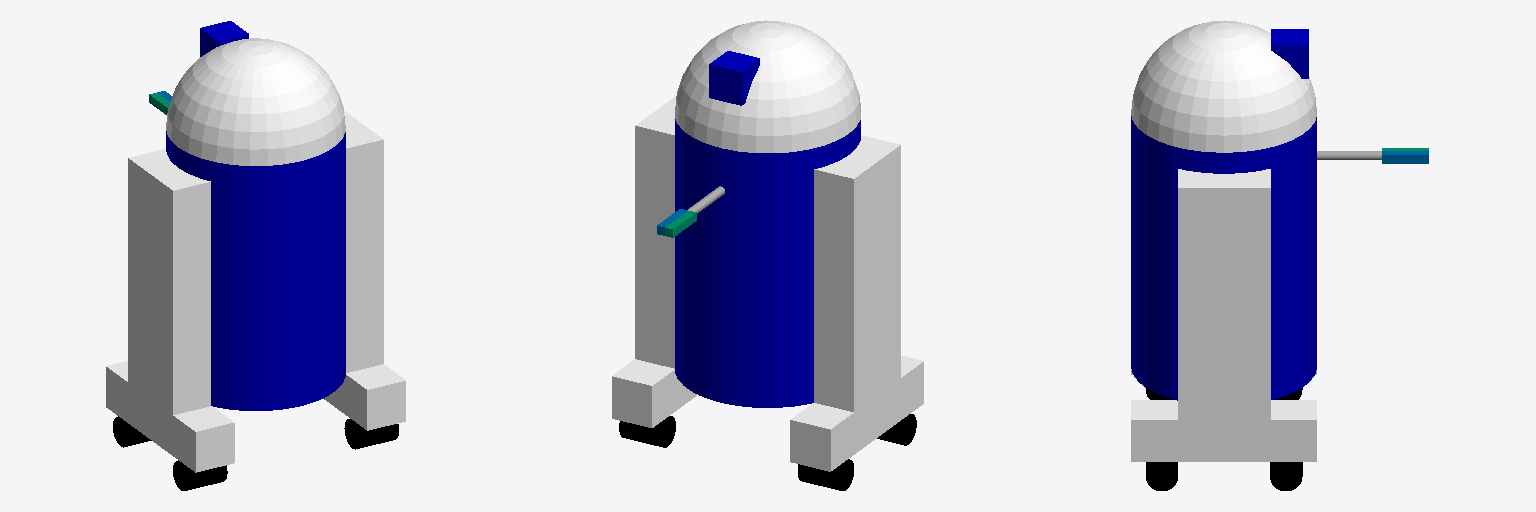
robot.urdf — flexible:
<?xml version="1.0"?><robot name="flexible">
  <link name="base_link">
    <visual>
      <geometry>
        <cylinder length="0.6" radius="0.2"/>
      </geometry>
      <material name="blue">
        <color rgba="0 0 .8 1"/>
      </material>
    </visual>
  </link>

  <link name="right_leg">
    <visual>
      <geometry>
        <box size="0.6 .2 .1"/>
      </geometry>
      <origin rpy="0 1.57075 0" xyz="0 0 -0.3"/>
      <material name="white">
        <color rgba="1 1 1 1"/>
      </material>
    </visual>
  </link>

  <joint name="base_to_right_leg" type="fixed">
    <parent link="base_link"/>
    <child link="right_leg"/>
    <origin xyz="0.22 0 .25"/>
  </joint>

  <link name="right_base">
    <visual>
      <geometry>
        <box size=".1 0.4 .1"/>
      </geometry>
      <material name="white"/>
    </visual>
  </link>

  <joint name="right_base_joint" type="fixed">
    <parent link="right_leg"/>
    <child link="right_base"/>
    <origin xyz="0 0 -0.6"/>
  </joint>

  <link name="right_front_wheel">
    <visual>
      <geometry>
        <cylinder length=".1" radius="0.035"/>
      </geometry>
      <material name="black">
        <color rgba="0 0 0 1"/>
      </material>
    </visual>
  </link>

  <joint name="right_front_wheel_joint" type="continuous">
    <axis xyz="0 0 1"/>
    <parent link="right_base"/>
    <child link="right_front_wheel"/>
    <origin rpy="0 1.57075 0" xyz="0 0.133333333333 -0.085"/>
    <limit effort="100" velocity="100"/>
    <dynamics damping="0.0" friction="0.0"/>
  </joint>

  <link name="right_back_wheel">
    <visual>
      <geometry>
        <cylinder length=".1" radius="0.035"/>
      </geometry>
      <material name="black"/>
    </visual>
  </link>

  <joint name="right_back_wheel_joint" type="continuous">
    <axis xyz="0 0 1"/>
    <parent link="right_base"/>
    <child link="right_back_wheel"/>
    <origin rpy="0 1.57075 0" xyz="0 -0.133333333333 -0.085"/>
    <limit effort="100" velocity="100"/>
    <dynamics damping="0.0" friction="0.0"/>
  </joint>

  <link name="left_leg">
    <visual>
      <geometry>
        <box size="0.6 .2 .1"/>
      </geometry>
      <origin rpy="0 1.57075 0" xyz="0 0 -0.3"/>
      <material name="white"/>
    </visual>
  </link>

  <joint name="base_to_left_leg" type="fixed">
    <parent link="base_link"/>
    <child link="left_leg"/>
    <origin xyz="-0.22 0 .25"/>
  </joint>

  <link name="left_base">
    <visual>
      <geometry>
        <box size=".1 0.4 .1"/>
      </geometry>
      <material name="white"/>
    </visual>
  </link>

  <joint name="left_base_joint" type="fixed">
    <parent link="left_leg"/>
    <child link="left_base"/>
    <origin xyz="0 0 -0.6"/>
  </joint>

  <link name="left_front_wheel">
    <visual>
      <geometry>
        <cylinder length=".1" radius="0.035"/>
      </geometry>
      <material name="black"/>
    </visual>
  </link>

  <joint name="left_front_wheel_joint" type="continuous">
    <axis xyz="0 0 1"/>
    <parent link="left_base"/>
    <child link="left_front_wheel"/>
    <origin rpy="0 1.57075 0" xyz="0 0.133333333333 -0.085"/>
    <limit effort="100" velocity="100"/>
    <dynamics damping="0.0" friction="0.0"/>
  </joint>

  <link name="left_back_wheel">
    <visual>
      <geometry>
        <cylinder length=".1" radius="0.035"/>
      </geometry>
      <material name="black"/>
    </visual>
  </link>

  <joint name="left_back_wheel_joint" type="continuous">
    <axis xyz="0 0 1"/>
    <parent link="left_base"/>
    <child link="left_back_wheel"/>
    <origin rpy="0 1.57075 0" xyz="0 -0.133333333333 -0.085"/>
    <limit effort="100" velocity="100"/>
    <dynamics damping="0.0" friction="0.0"/>
  </joint>
  <joint name="gripper_extension" type="prismatic">
    <parent link="base_link"/>
    <child link="gripper_pole"/>
    <limit effort="1000.0" lower="-0.38" upper="0" velocity="0.5"/>
    <origin rpy="0 0 1.57075" xyz="0 0.19 .2"/>
  </joint>

  <link name="gripper_pole">
    <visual>
      <geometry>
        <cylinder length="0.2" radius=".01"/>
      </geometry>
      <origin rpy="0 1.57075 0 " xyz="0.1 0 0"/>
      <material name="Gray">
        <color rgba=".7 .7 .7 1"/>
      </material>
    </visual>
  </link>

  <joint name="left_gripper_joint" type="revolute">
    <axis xyz="0 0 1"/>
    <limit effort="1000.0" lower="0.0" upper="0.548" velocity="0.5"/>
    <origin rpy="0 0 0" xyz="0.2 0.01 0"/>
    <parent link="gripper_pole"/>
    <child link="left_gripper"/>
  </joint>

  <link name="left_gripper">
    <visual>
      <origin rpy="0.0 0 0" xyz="0 0 0"/>
      <geometry>
        <box size="0.1 0.02 0.02"/>
      </geometry>
    </visual>
  </link>

  <joint name="left_tip_joint" type="fixed">
    <parent link="left_gripper"/>
    <child link="left_tip"/>
  </joint>

  <link name="left_tip">
    <visual>
      <origin rpy="0.0 0 0" xyz="0.09137 0.00495 0"/>
      <geometry>
        <mesh filename="package://pr2_description/meshes/gripper_v0/l_finger_tip.dae"/>
      </geometry>
    </visual>
  </link>

  <joint name="right_gripper_joint" type="revolute">
    <axis xyz="0 0 -1"/>
    <limit effort="1000.0" lower="0.0" upper="0.548" velocity="0.5"/>
    <origin rpy="0 0 0" xyz="0.2 -0.01 0"/>
    <parent link="gripper_pole"/>
    <child link="right_gripper"/>
  </joint>

  <link name="right_gripper">
    <visual>
      <origin rpy="-3.1415 0 0" xyz="0 0 0"/>
      <geometry>
         <box size="0.1 0.02 0.02"/>
      </geometry>
    </visual>
  </link>

  <joint name="right_tip_joint" type="fixed">
    <parent link="right_gripper"/>
    <child link="right_tip"/>
  </joint>

  <link name="right_tip">
    <visual>
      <origin rpy="-3.1415 0 0" xyz="0.09137 0.00495 0"/>
      <geometry>
        <mesh filename="package://pr2_description/meshes/gripper_v0/l_finger_tip.dae"/>
      </geometry>
    </visual>
  </link>

  <link name="head">
    <visual>
      <geometry>
        <sphere radius="0.2"/>
      </geometry>
      <material name="white"/>
    </visual>
  </link>

  <joint name="head_swivel" type="continuous">
    <parent link="base_link"/>
    <child link="head"/>
    <axis xyz="0 0 1"/>
    <origin xyz="0 0 0.3"/>
  </joint>

  <link name="box">
    <visual>
      <geometry>
        <box size=".08 .08 .08"/>
      </geometry>
      <material name="blue"/>
    </visual>
  </link>

  <joint name="tobox" type="fixed">
    <parent link="head"/>
    <child link="box"/>
    <origin xyz="0 0.1414 0.1414"/>
  </joint>

</robot>

--- Facts derived from the render (not from the file) ---
The picture shows the robot from 3 angles, left to right: view 1: azimuth 30°, elevation 25°; view 2: azimuth 150°, elevation 25°; view 3: azimuth 270°, elevation 25°; orthographic projection.
Robot: flexible — 16 links, 15 joints (2 revolute, 5 continuous, 1 prismatic, 7 fixed); root link base_link; default pose: all joints at 0.
Visible links, largest first — view 1: base_link, left_leg, head, right_leg, left_base, right_base, right_back_wheel, left_back_wheel, box, left_front_wheel; view 2: base_link, left_leg, head, right_leg, left_base, right_base, box, right_front_wheel, left_front_wheel, left_back_wheel; view 3: base_link, right_leg, head, right_base, box, right_front_wheel, right_back_wheel, right_gripper, gripper_pole.
Boxes of the visible links, x1,y1,x2,y2 form: base_link: [166, 131, 345, 410]; left_leg: [128, 149, 210, 414]; head: [166, 38, 345, 165]; right_leg: [344, 111, 383, 372]; left_base: [106, 361, 234, 472]; right_base: [323, 364, 405, 430]; right_back_wheel: [344, 419, 398, 449]; left_back_wheel: [173, 460, 227, 490]; box: [200, 21, 248, 56]; left_front_wheel: [113, 416, 151, 447]; base_link: [675, 119, 860, 407]; left_leg: [814, 135, 900, 411]; head: [675, 20, 860, 152]; right_leg: [635, 95, 676, 368]; left_base: [790, 356, 923, 471]; right_base: [612, 359, 697, 427]; box: [709, 51, 759, 105]; right_front_wheel: [619, 416, 675, 447]; left_front_wheel: [798, 459, 853, 490]; left_back_wheel: [877, 414, 916, 445]; base_link: [1131, 116, 1316, 400]; right_leg: [1178, 169, 1270, 440]; head: [1131, 20, 1316, 152]; right_base: [1131, 400, 1316, 461]; box: [1271, 29, 1308, 78]; right_front_wheel: [1270, 462, 1302, 490]; right_back_wheel: [1146, 462, 1177, 490]; right_gripper: [1382, 151, 1428, 163]; gripper_pole: [1317, 151, 1381, 159].
Bounding box of the posed robot: 0.54 × 0.64 × 0.97 m (x, y, z).
Meshes: 1 distinct files referenced, 0 mesh visuals loaded (none loaded); not drawn: 2 (reference not matched to a file when rendering).